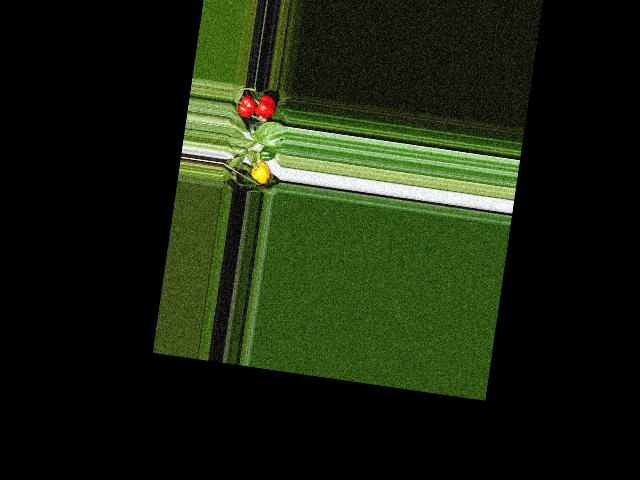bell_pepper: (248, 159, 273, 187)
